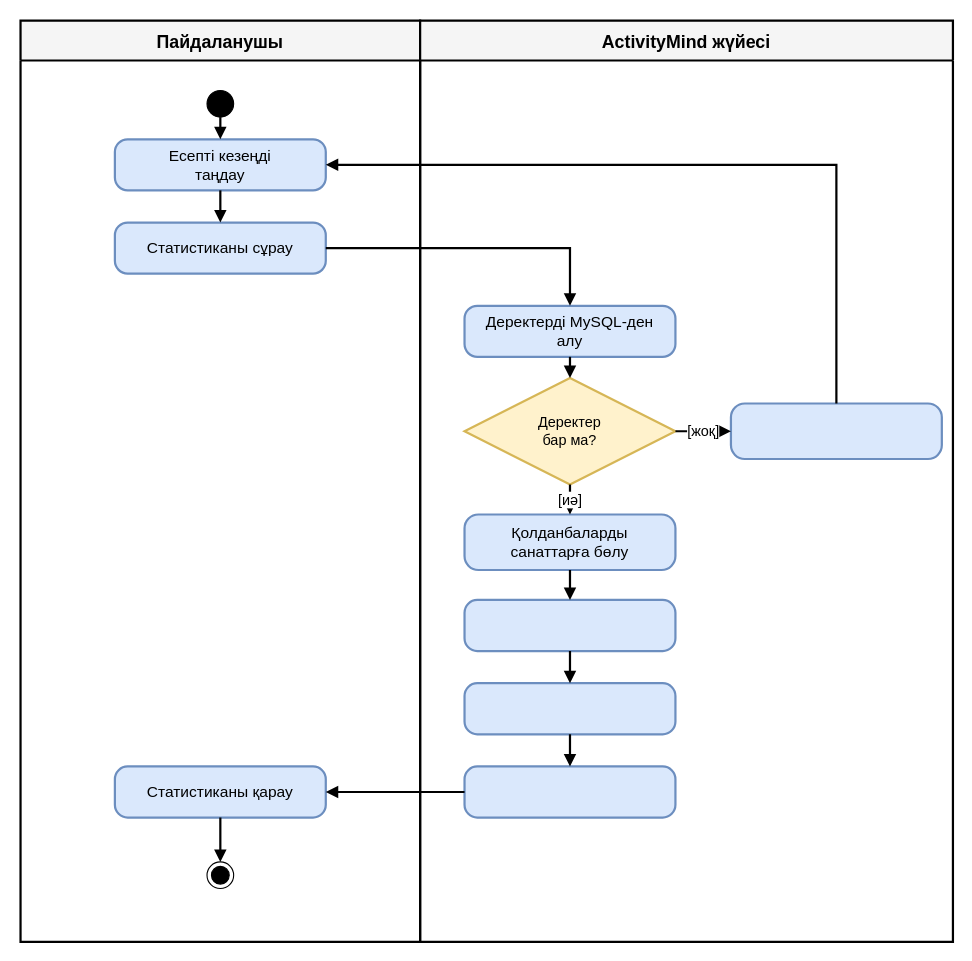
The diagram is 972 pixels wide and 961 high, and some of its shapes have lost their labels. Each missing label, with the centre of its shape:
"Chart.js графиктерін құру" goes at point (569, 708).
"«Деректер жоқ» хабарын көрсету" goes at point (835, 431).
"Статистиканы көрсету" goes at point (569, 791).
"Уақытты есептеу" goes at point (569, 625).
